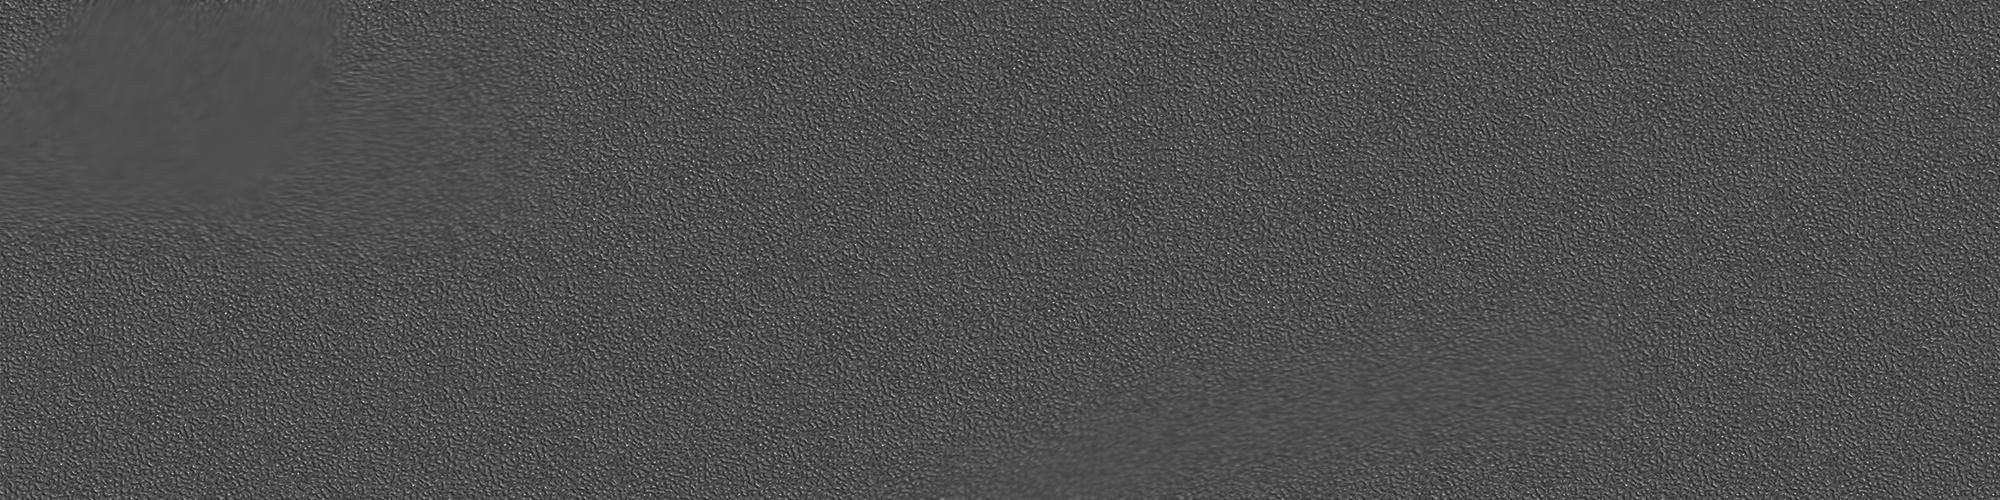Flow_Lines: (6, 9, 402, 231)
